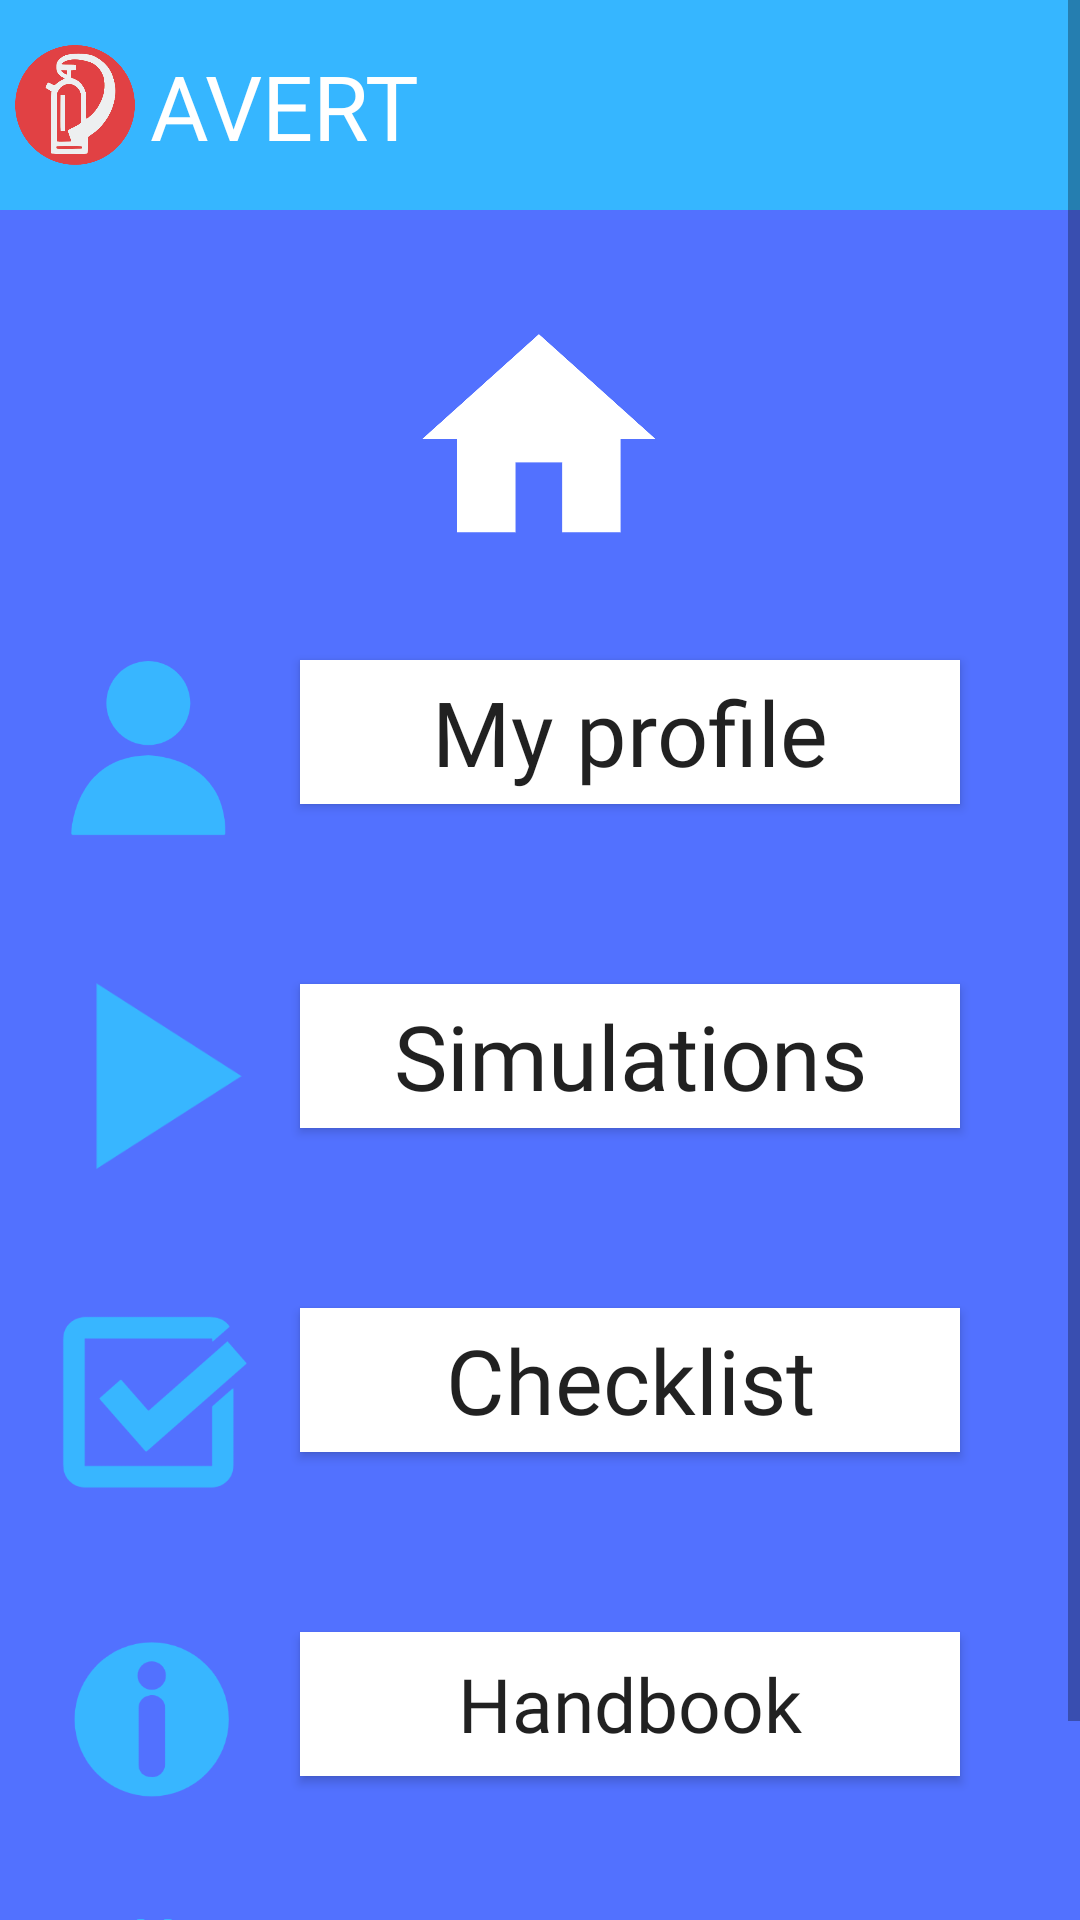

Screen size 1080×1920. Icon name, then its box in pixels as (left=x1, top=y1, right=x2, bottom=y2):
checkbox: (left=63, top=1317, right=246, bottom=1488)
home: (left=423, top=334, right=655, bottom=533)
info: (left=74, top=1642, right=229, bottom=1796)
play: (left=96, top=984, right=241, bottom=1168)
